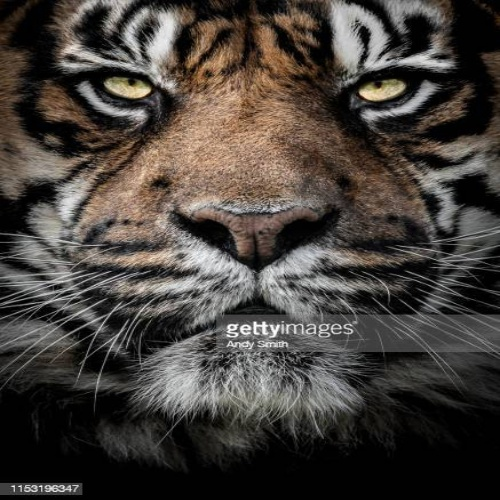tiger: (70, 26, 429, 421)
